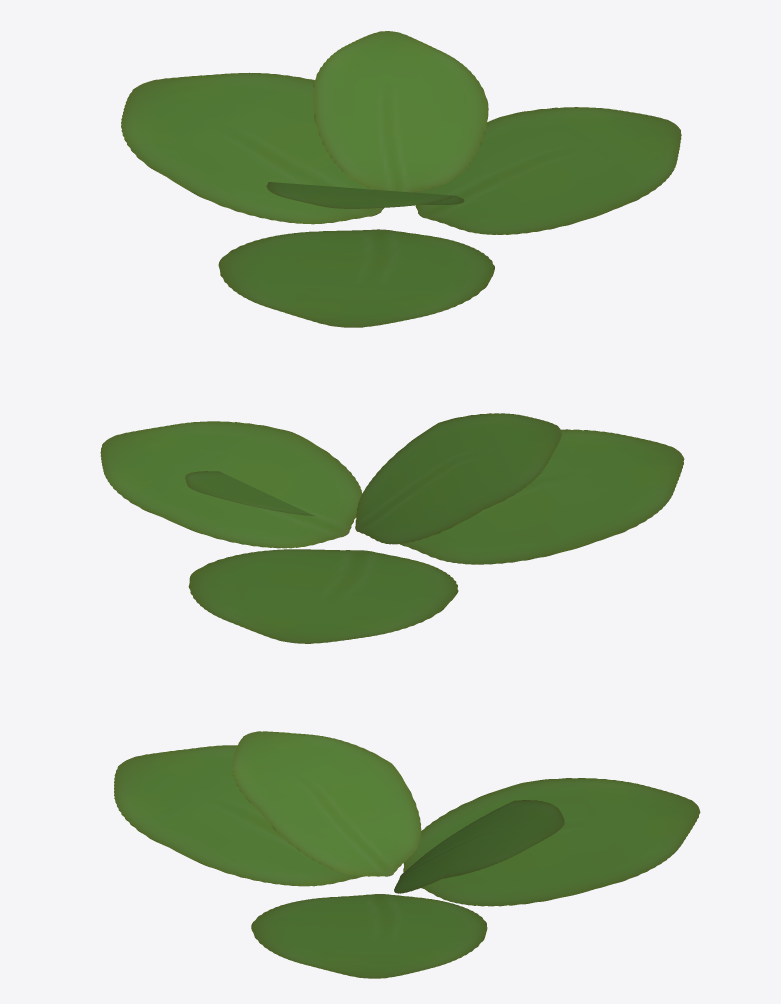
Rendered from WaterPlant01.glb.
The picture shows the model from 3 angles, top to bottom: view 1: azimuth 30°, elevation 25°; view 2: azimuth 150°, elevation 25°; view 3: azimuth 270°, elevation 25°; orthographic projection. The views are drawn at different scales.
Visible parts, largest first — view 1: PlantAqua01; view 2: PlantAqua01; view 3: PlantAqua01.
Part boxes in pixels (bbox=[...]): PlantAqua01: bbox=[121, 31, 681, 327]; PlantAqua01: bbox=[100, 413, 684, 643]; PlantAqua01: bbox=[114, 731, 700, 978].
Bounding box in the file's own units: 0.5008 × 0.0902 × 0.5566.
1 material, 1 textured.
